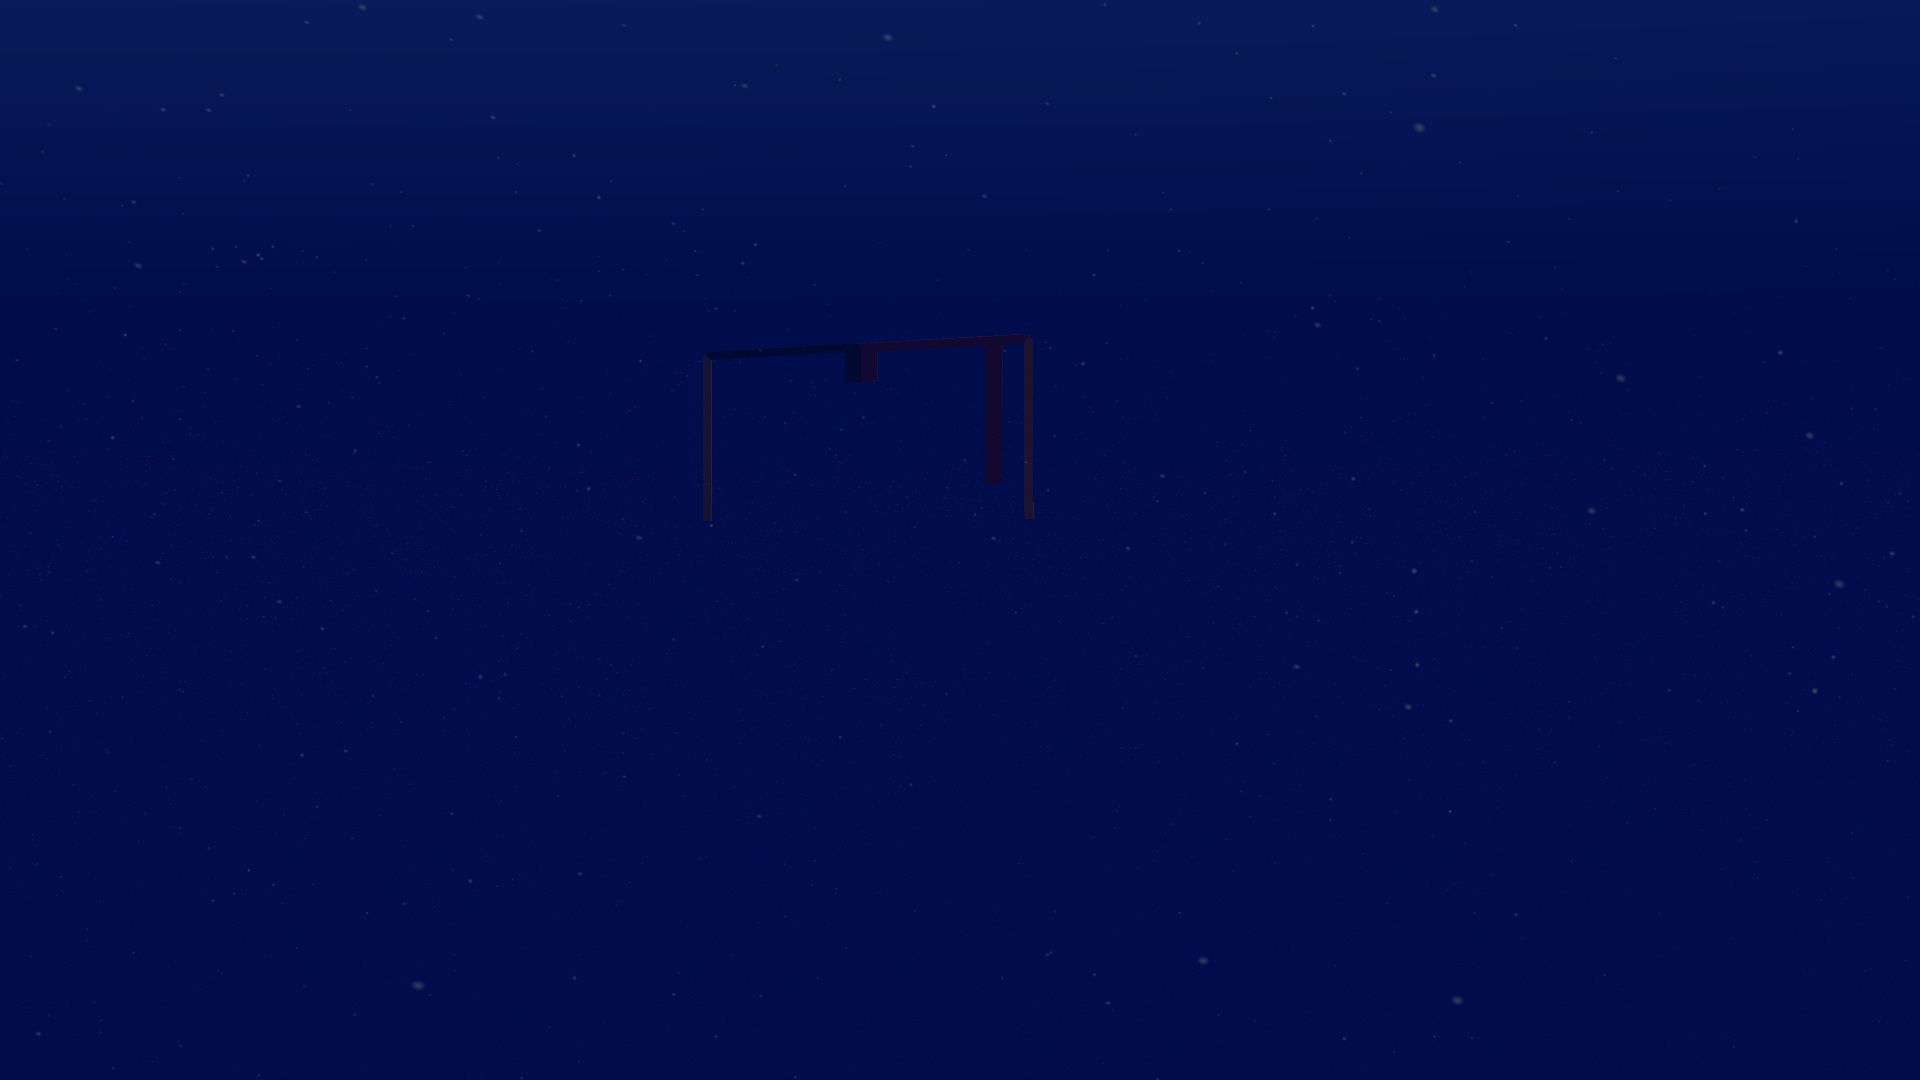Gate: (691, 332, 1040, 529)
